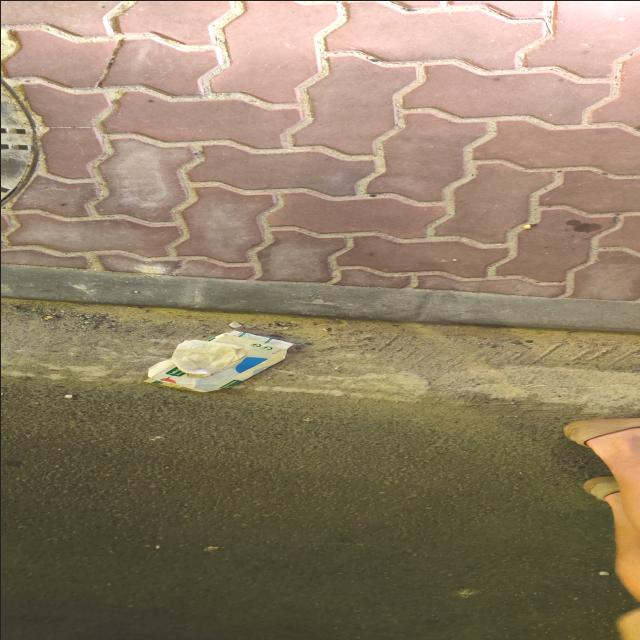Other carton: (141, 329, 293, 391)
Tissues: (170, 339, 247, 378)
